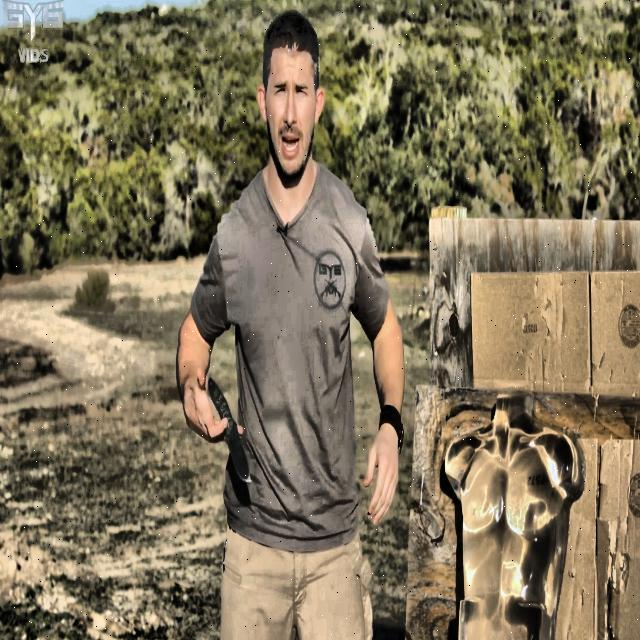knife: (208, 380, 250, 486)
